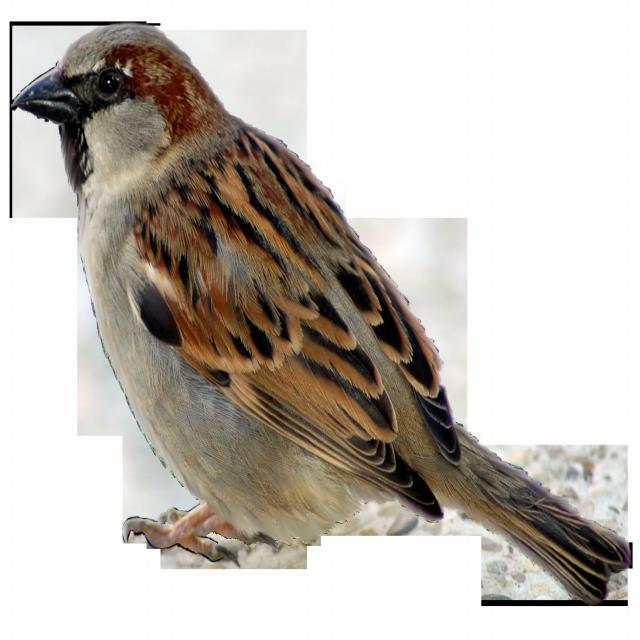bird: (11, 8, 634, 609)
